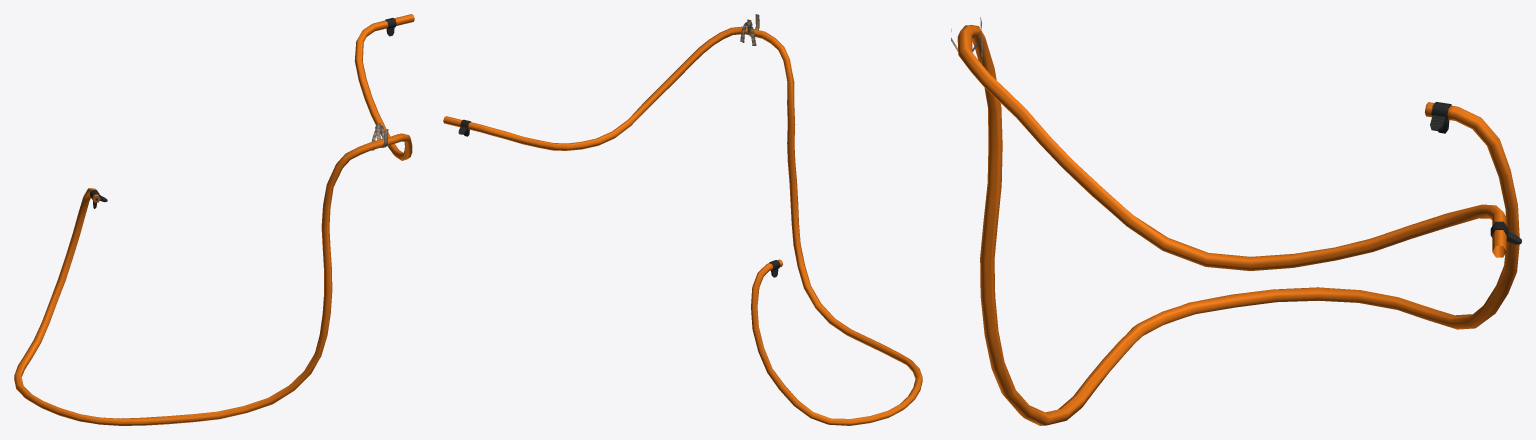
The model's file is jsf_GasRange_04b.fbx.
3 renders of one model, left to right at view 1: azimuth 30°, elevation 25°; view 2: azimuth 150°, elevation 25°; view 3: azimuth 270°, elevation 25°, orthographic. The views are drawn at different scales.
Visible parts, largest first — view 1: GasHose; view 2: GasHose; view 3: GasHose.
Part boxes in pixels (x1,y1,x2,y2): GasHose: (14,14,414,425); GasHose: (443,14,922,425); GasHose: (951,17,1521,425).
Size of the model in its own units: 110 by 68.1 by 69.18.
